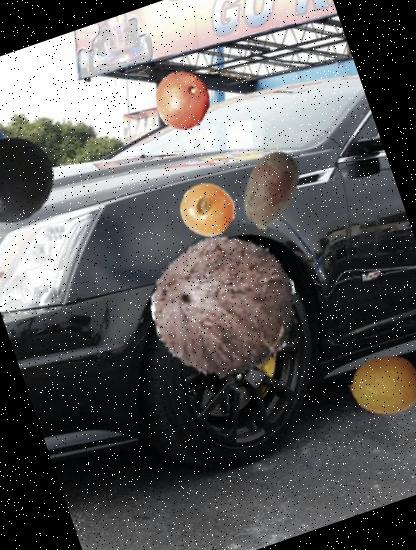Clementine: (144, 62, 222, 140)
Cocos: (132, 212, 318, 398)
Grape: (0, 122, 69, 239)
Lemon: (338, 338, 416, 431)
Physalis: (173, 174, 242, 243)
Potato: (217, 136, 323, 242)
